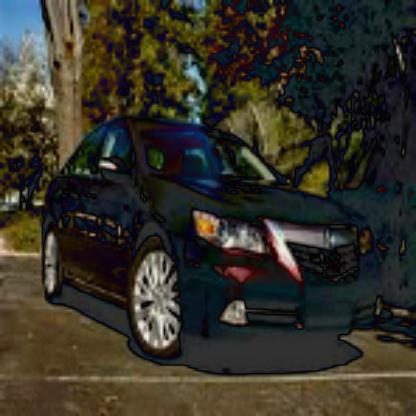Vehicle: (40, 114, 387, 368)
